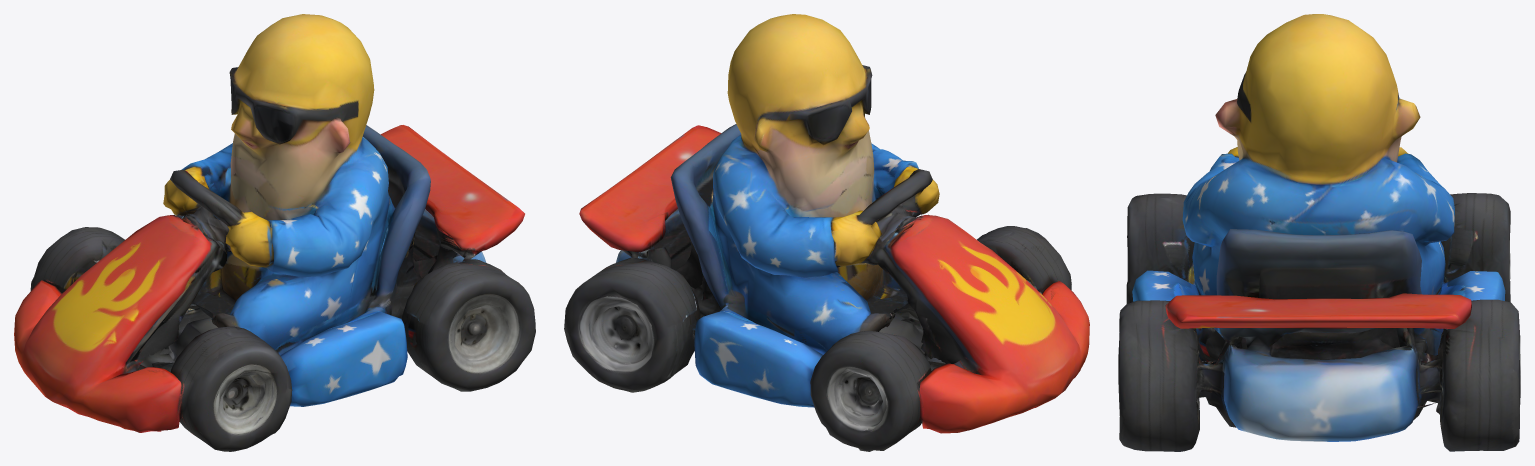
The model's file is udikart.glb.
3 renders of one model, left to right at view 1: azimuth 30°, elevation 25°; view 2: azimuth 150°, elevation 25°; view 3: azimuth 270°, elevation 25°, orthographic. The views are drawn at different scales.
Parts seen in each view (by area): view 1: Mesh_0; view 2: Mesh_0; view 3: Mesh_0.
Boxes of the visible parts, box(x1,y1,x2,y2) form: Mesh_0: box(14, 14, 535, 451); Mesh_0: box(564, 14, 1089, 451); Mesh_0: box(1118, 14, 1520, 451).
Size of the model in its own units: 1.3 by 1 by 0.9603.
Materials: 1 (1 with a texture image).
